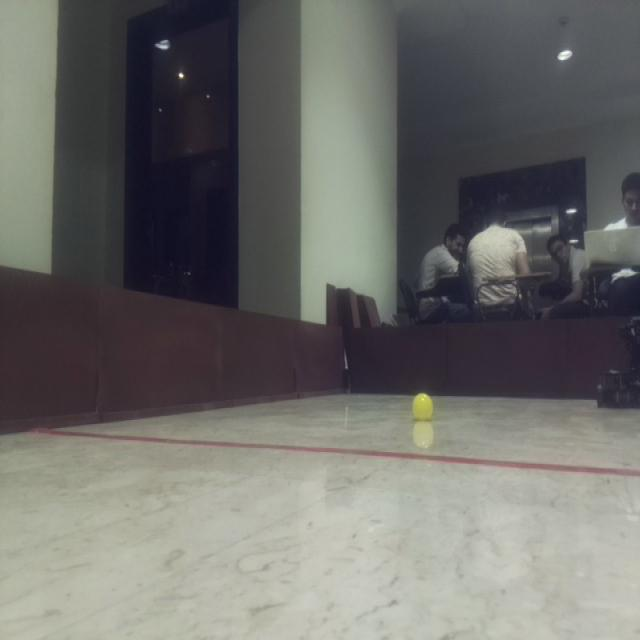ball: (406, 389, 437, 423)
